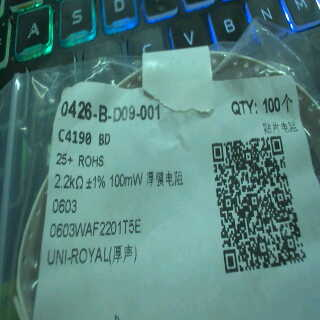2.2kR: (53, 173, 86, 194)
